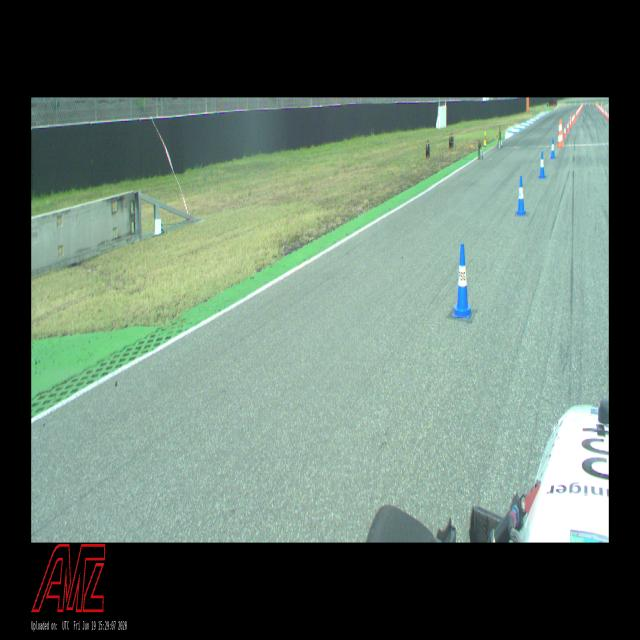blue_cone: (452, 244, 472, 317), (516, 176, 526, 215), (539, 152, 545, 178), (550, 138, 555, 158)
large_orange_cone: (557, 120, 562, 146), (560, 119, 564, 147)
orange_cone: (564, 124, 566, 138), (567, 120, 569, 132)
yellow_cone: (484, 131, 486, 145)
